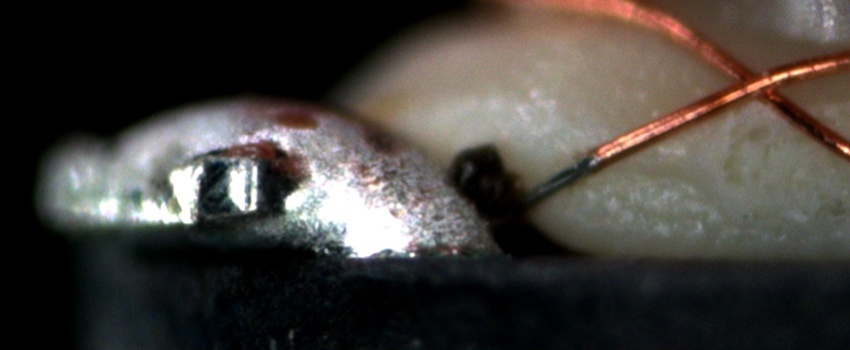CL: (715, 54, 802, 113)
DL: (585, 141, 707, 186)
TS: (485, 154, 602, 228)
TTCW: (483, 129, 640, 229)
